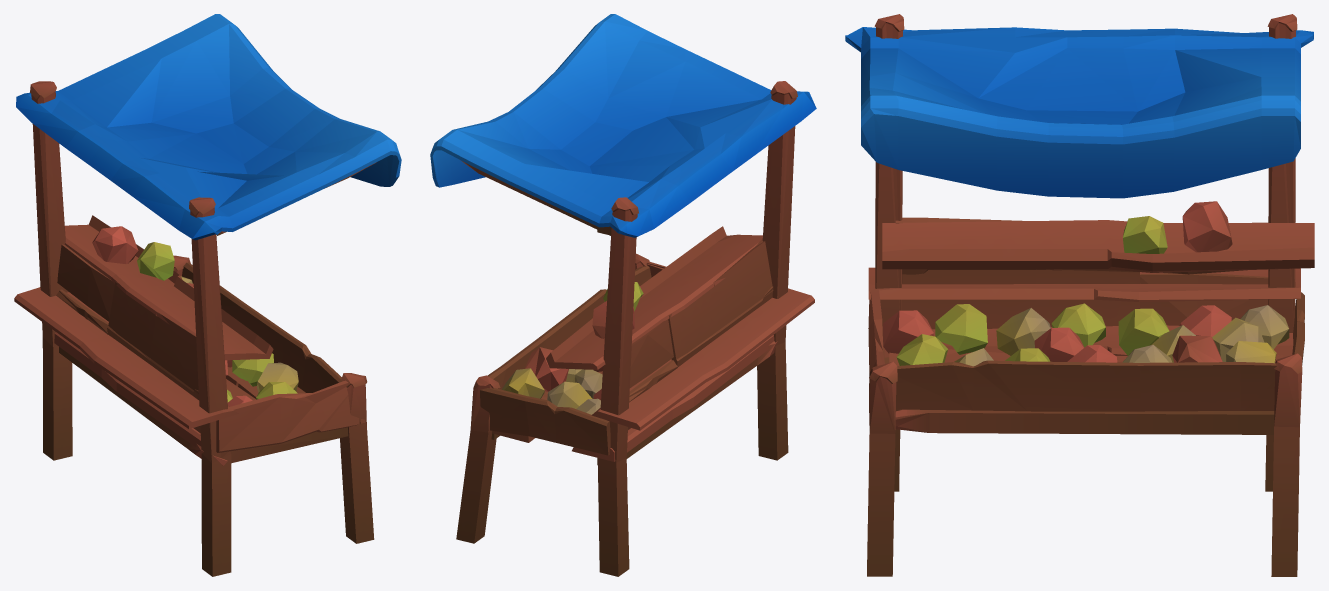
The model's file is marketstand_blue.glb.
3 views of the same model, side by side, from view 1: azimuth 30°, elevation 25°; view 2: azimuth 150°, elevation 25°; view 3: azimuth 270°, elevation 25° (orthographic). The views are drawn at different scales.
Visible parts, largest first — view 1: MarketStand_Blue_mesh1; view 2: MarketStand_Blue_mesh1; view 3: MarketStand_Blue_mesh1.
Boxes of the visible parts, x1,y1,x2,y2 form: MarketStand_Blue_mesh1: (14,14,401,576); MarketStand_Blue_mesh1: (430,14,816,576); MarketStand_Blue_mesh1: (845,14,1314,576).
Size of the model in its own units: 1.89 by 3.35 by 2.91.
1 material, 1 textured.
